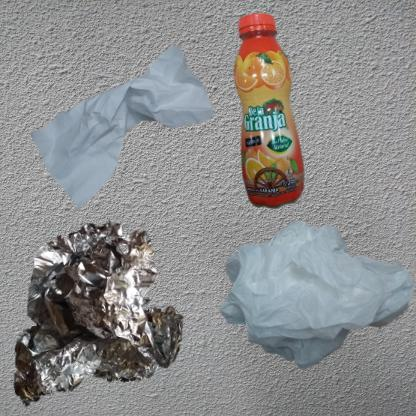aluminio: (10, 213, 193, 416)
bolsa: (213, 213, 416, 385)
botella: (213, 10, 335, 229)
papel: (10, 10, 244, 259)
